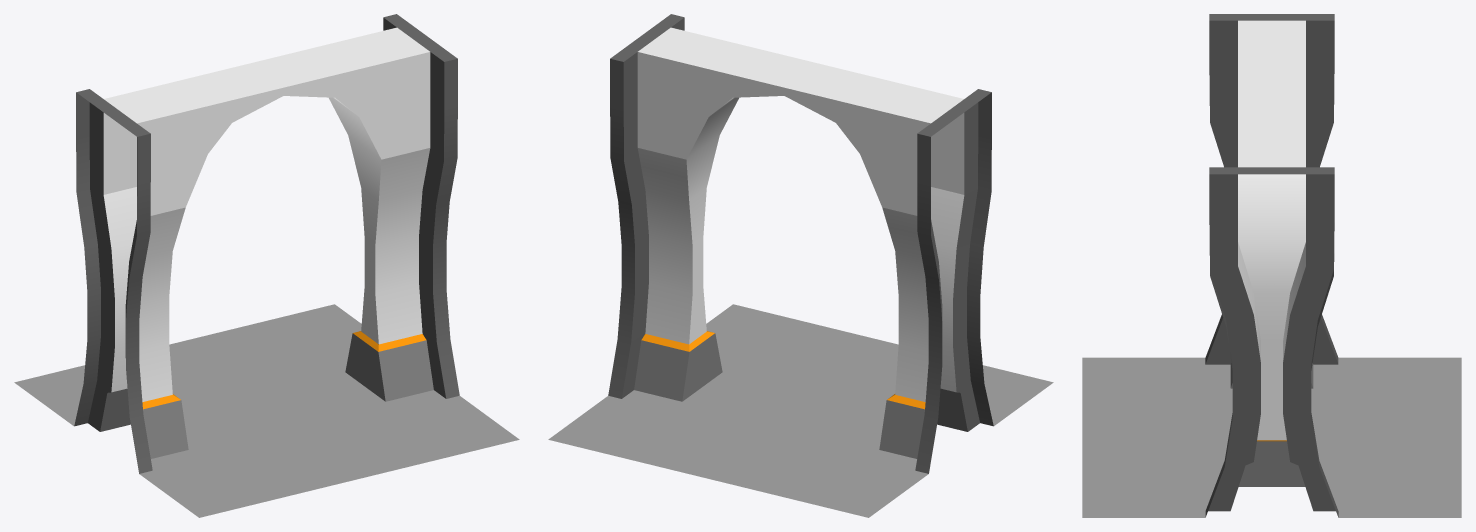
Rendered from SM_InteriorDoor_01.fbx.
The picture shows the model from 3 angles, left to right: view 1: azimuth 30°, elevation 25°; view 2: azimuth 150°, elevation 25°; view 3: azimuth 270°, elevation 25°; orthographic projection. The views are drawn at different scales.
Parts seen in each view (by area): view 1: SM_InteriorDoor_01; view 2: SM_InteriorDoor_01; view 3: SM_InteriorDoor_01.
Part boxes in pixels (x1,y1,x2,y2): SM_InteriorDoor_01: (14, 14, 519, 517); SM_InteriorDoor_01: (548, 14, 1053, 517); SM_InteriorDoor_01: (1082, 14, 1461, 517).
Size of the model in its own units: 200 by 200 by 200.
1 material, 1 textured.
